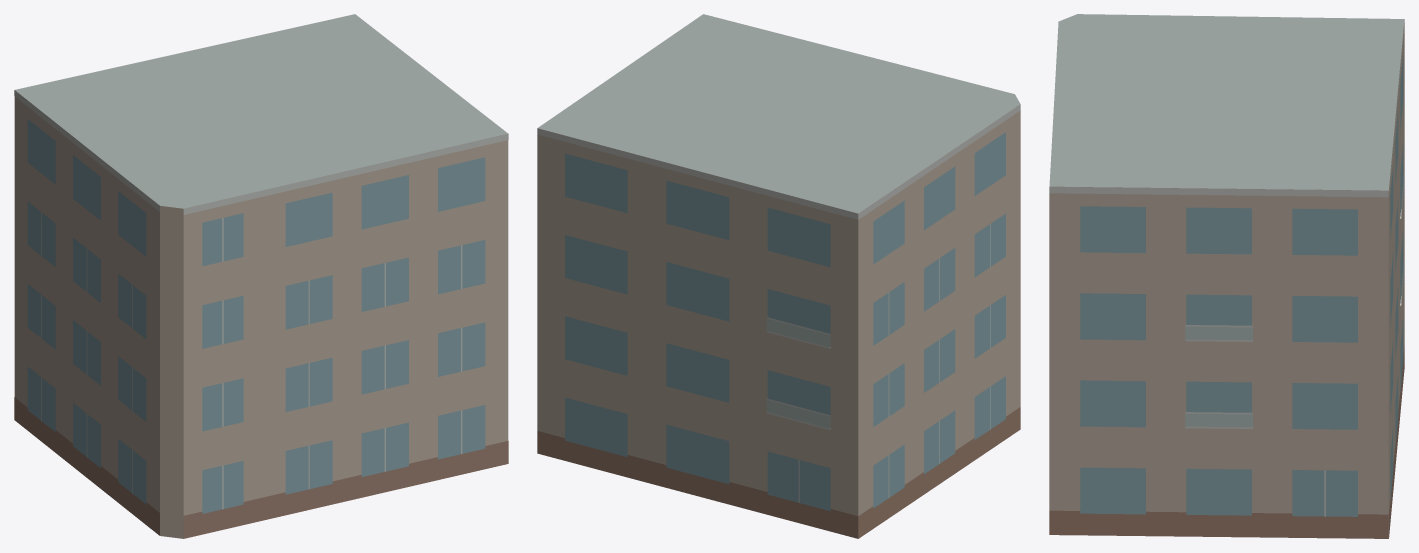
Rendered from survey-upis-32665309.glb.
The picture shows the model from 3 angles, left to right: view 1: azimuth 30°, elevation 25°; view 2: azimuth 150°, elevation 25°; view 3: azimuth 270°, elevation 25°; orthographic projection. The views are drawn at different scales.
Parts seen in each view (by area): view 1: survey-upis-32665309.tmp; view 2: survey-upis-32665309.tmp; view 3: survey-upis-32665309.tmp.
Part boxes in pixels (x1=…): survey-upis-32665309.tmp: x1=14, y1=14, x2=508, y2=538; survey-upis-32665309.tmp: x1=537, y1=14, x2=1020, y2=538; survey-upis-32665309.tmp: x1=1049, y1=14, x2=1404, y2=538.
Size of the model in its own units: 13.81 by 12.7 by 11.74.
